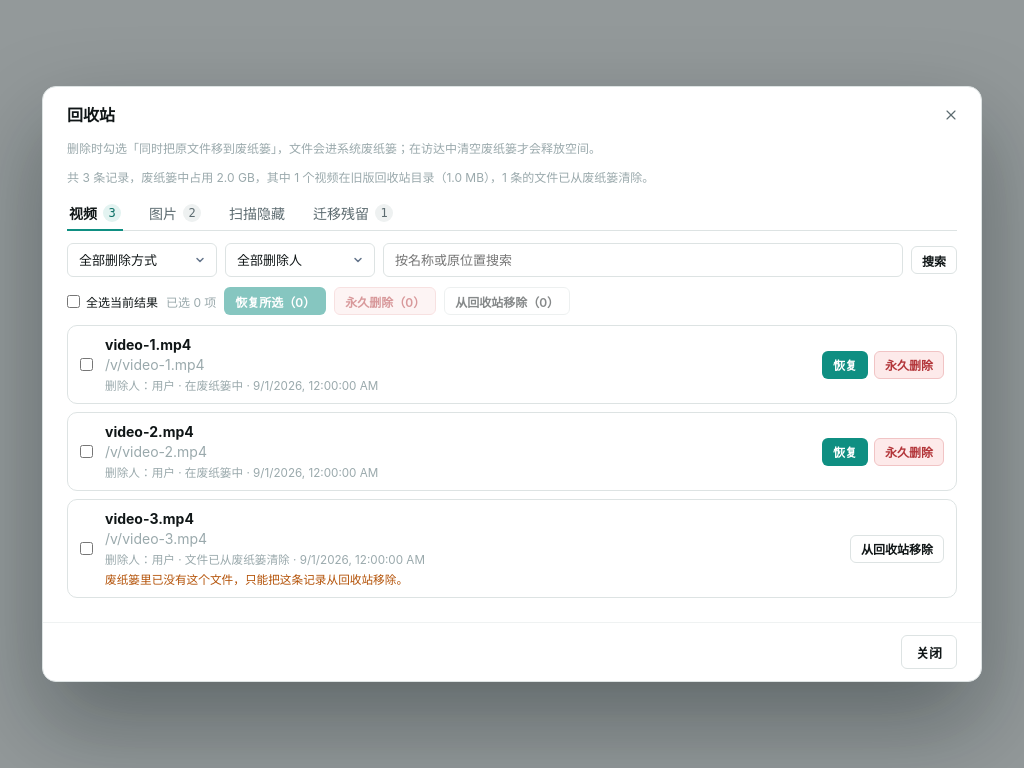
it: LIB-12 多选与批量操作 › 「恢复所选」一次恢复所选条目，只把成功的移出列表并报告失败原因
This screenshot has width=1024, height=768.
What coordinates should you click on to do the following:
click the checkbox with test id "trash-select-all"
I would click on:
 (74, 301)
Its box is [67, 294, 80, 308].
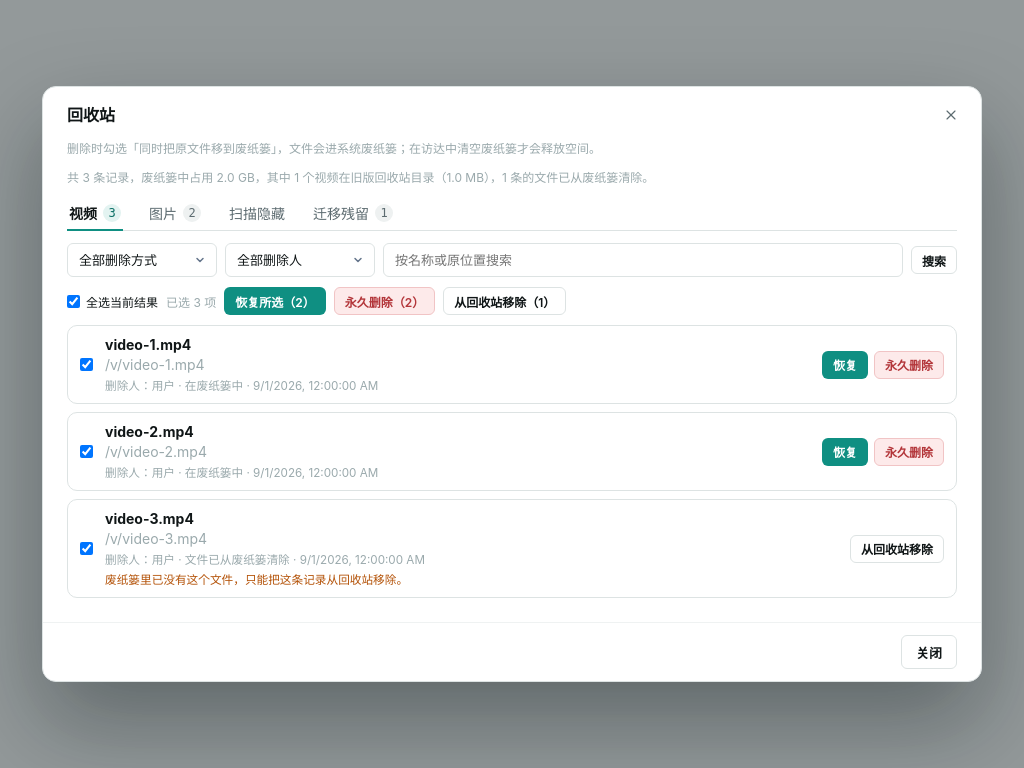
Check: the button with test id "trash-bulk-restore" reads "恢复所选（2）"
Check: the button with test id "trash-bulk-remove" reads "从回收站移除（1）", box [443, 287, 566, 315]
What coordinates should you click on to do the following:
click the button with test id "trash-bulk-restore"
I would click on:
 (275, 301)
Its box is [224, 287, 326, 315].
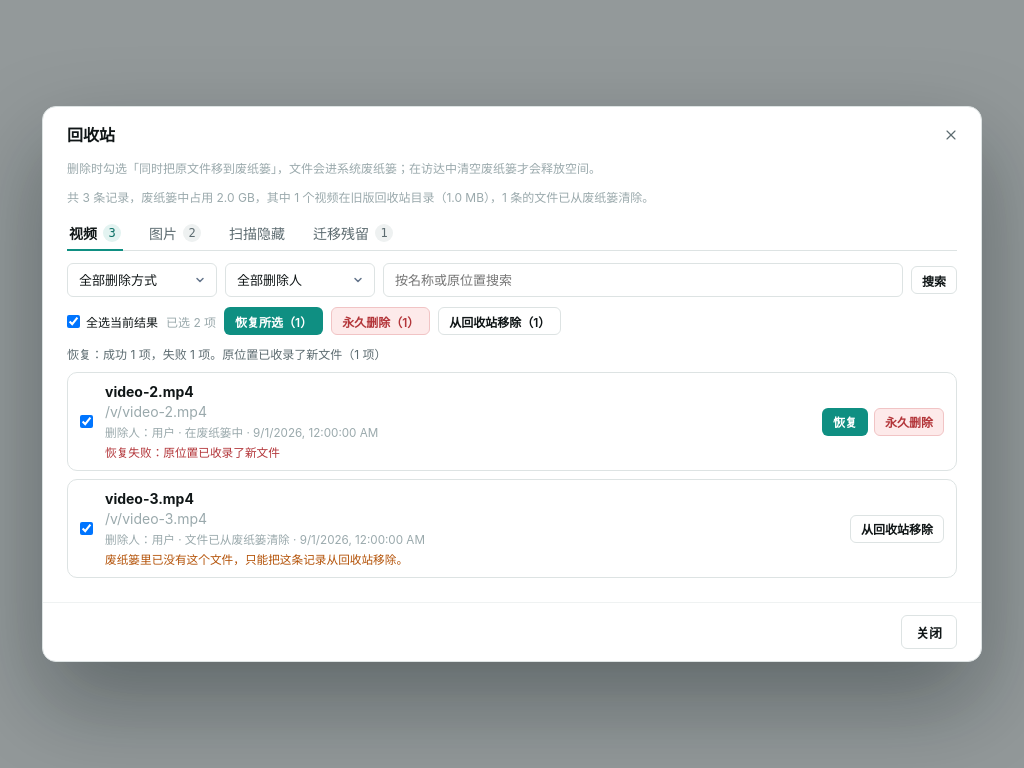
Check: the element with test id "trash-entry-2" shows "恢复失败：原位置已收录了新文件", box [105, 446, 280, 460]
Check: the message with test id "trash-notice" shows "成功 1 项，失败 1 项", box [67, 347, 386, 362]
